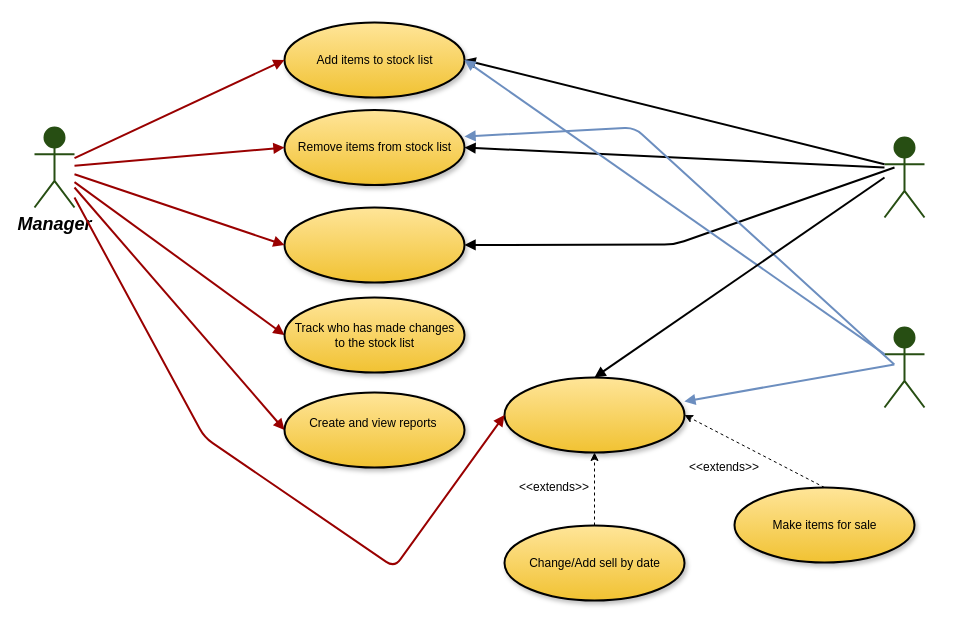
This 972x625 diagram has some shape labels left out. The shapes that lost their labels are listed below. From the top down, each one's centre as x and y in pixels, then its label:
[904,177]: Senior Staff
[375,246]: Update items in the stock list
[904,367]: Staff
[595,416]: Have access to for sale list
